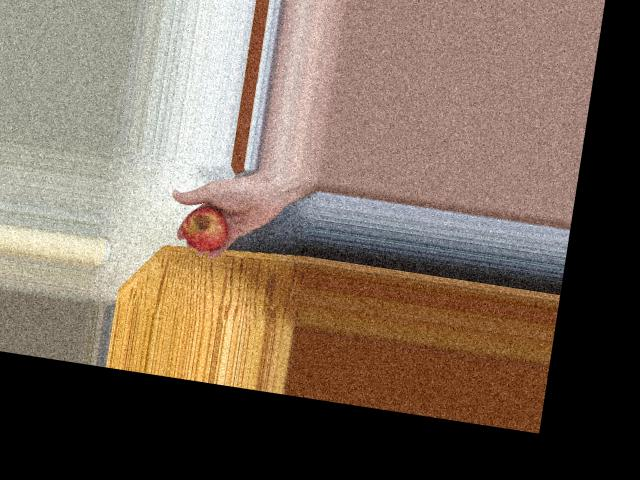apple: (173, 197, 249, 260)
